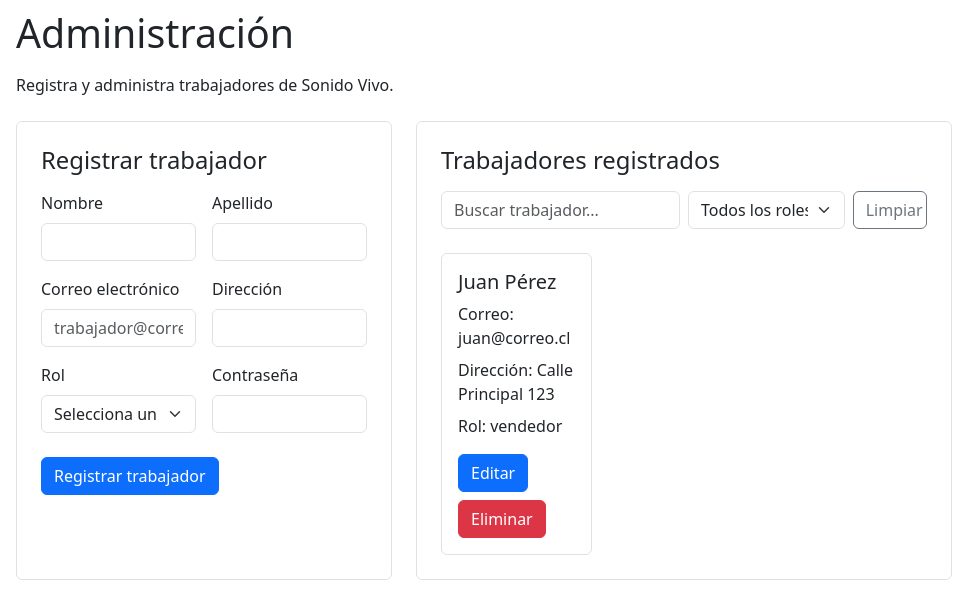
Admin › cancela la edición sin modificar al trabajador
Selecciona al trabajador para editar
Click the button "Editar". click: click(493, 473)
box: [458,454,528,492]
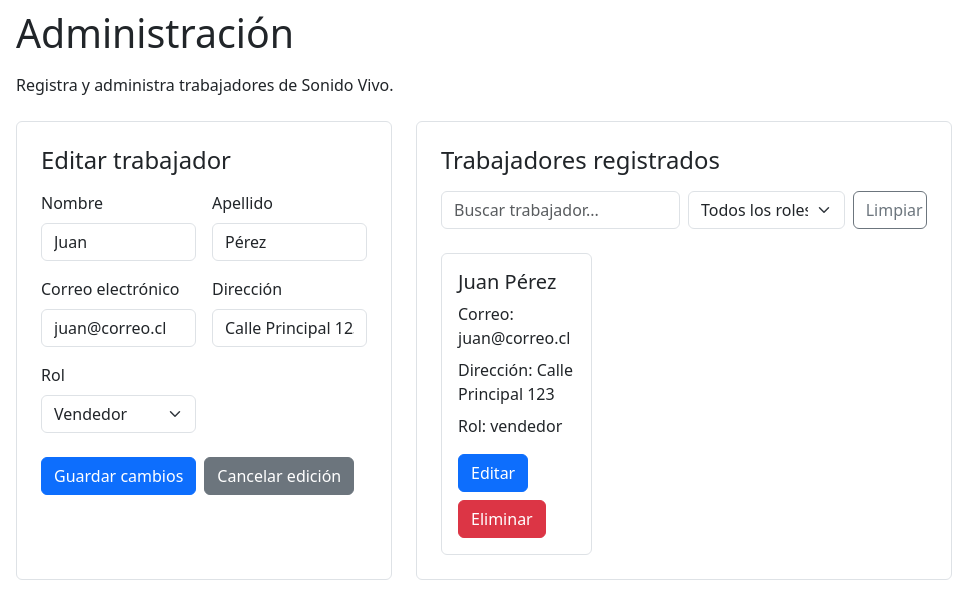
Modifica el nombre, pero sin guardar
Replace the text in the field named "nombre" below "Nombre" with "Juan Carlos". click: (118, 242)
box: [41,223,196,261]
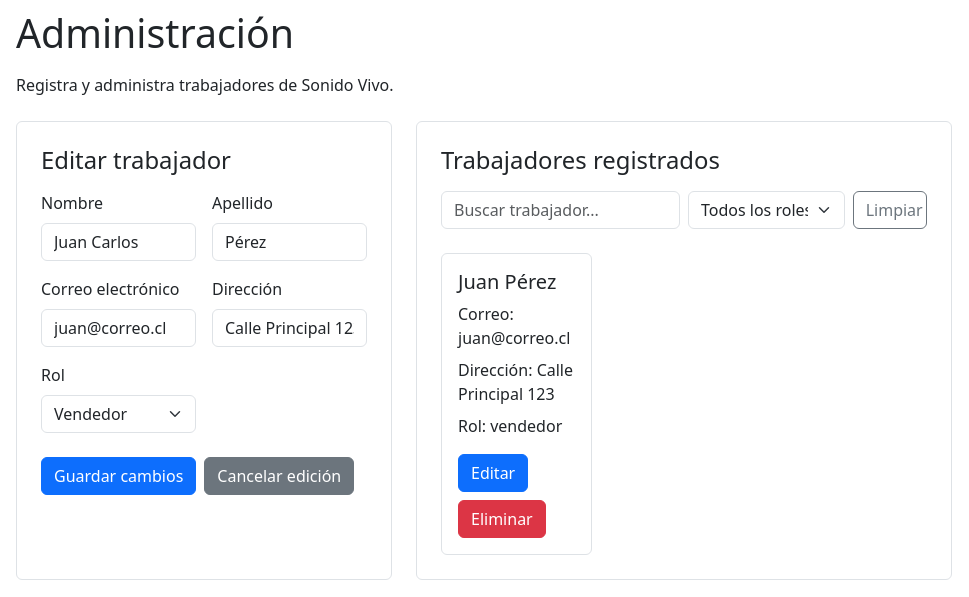
Cancela la edición
Click the button "Cancelar edición". click: click(279, 476)
box: [204,457,354,495]
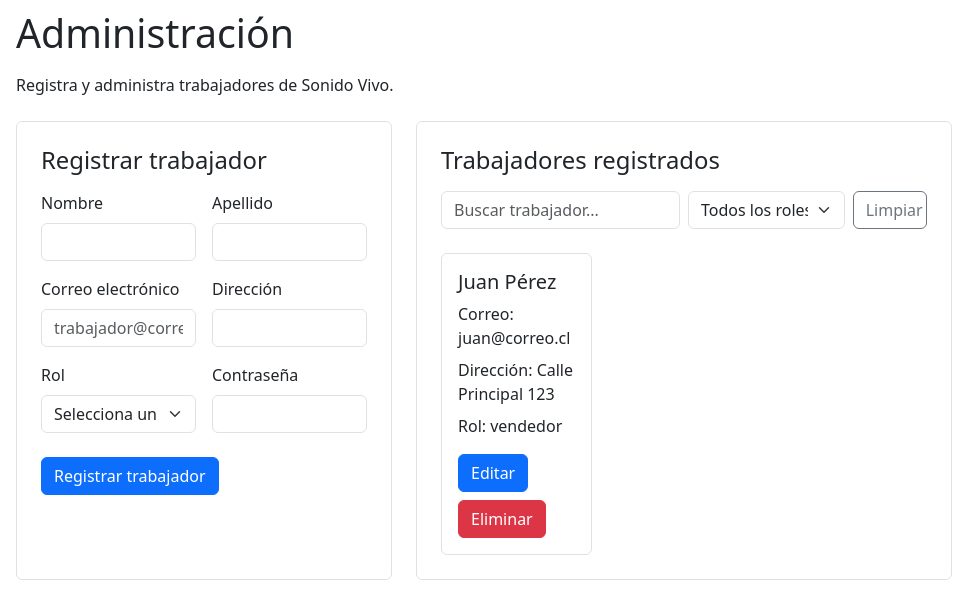
Now the heading "Registrar trabajador" is shown, box [41,144,267,176]
Now the field named "nombre" below "Nombre" is empty, box [41,223,196,261]
